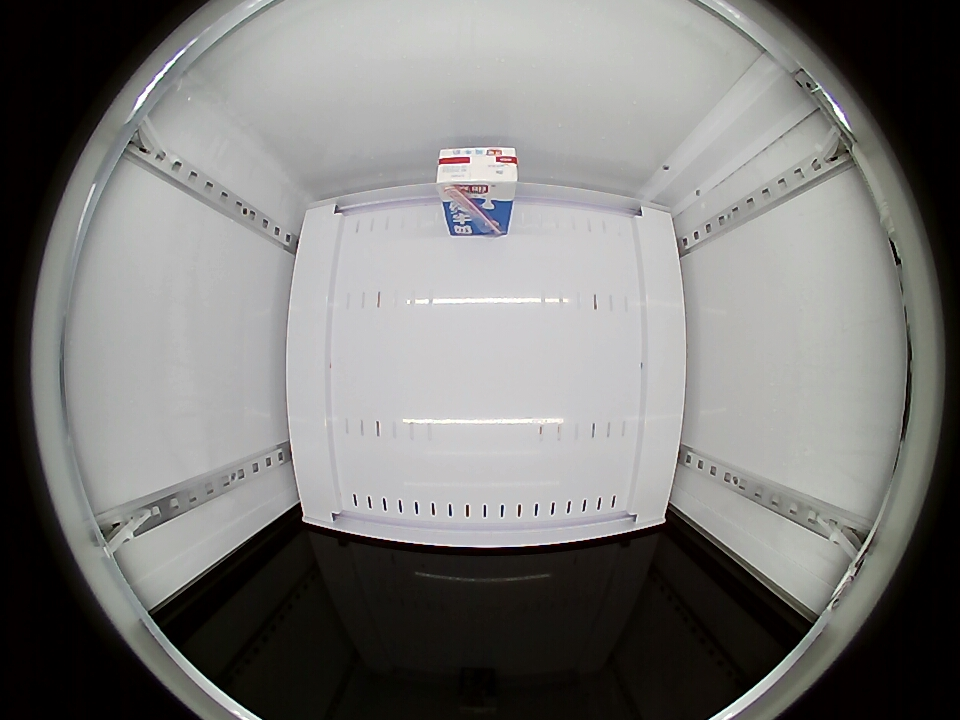niunai: (437, 145, 519, 201)
